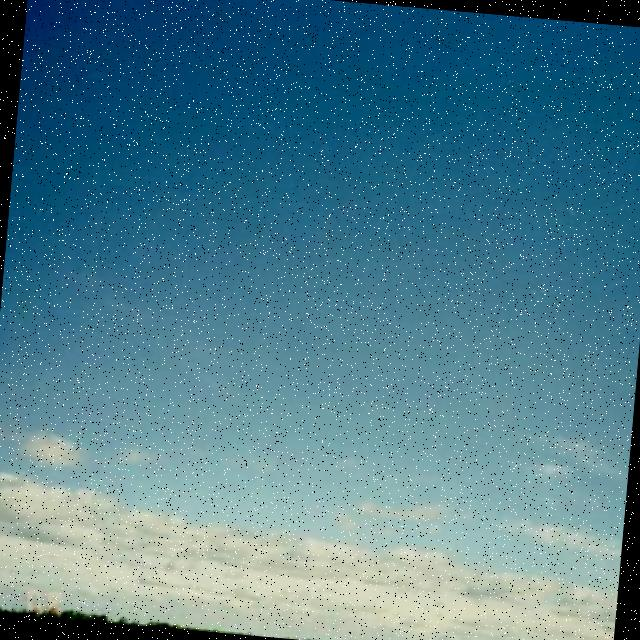Cs: (1, 286, 640, 629)
